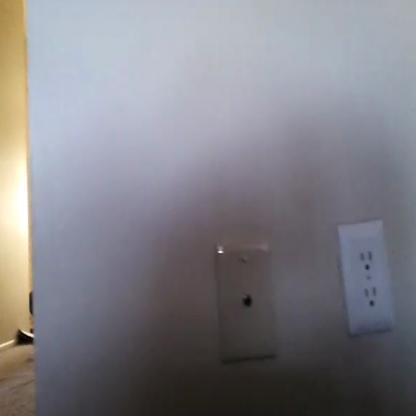OUTLET: (338, 222, 395, 331)
